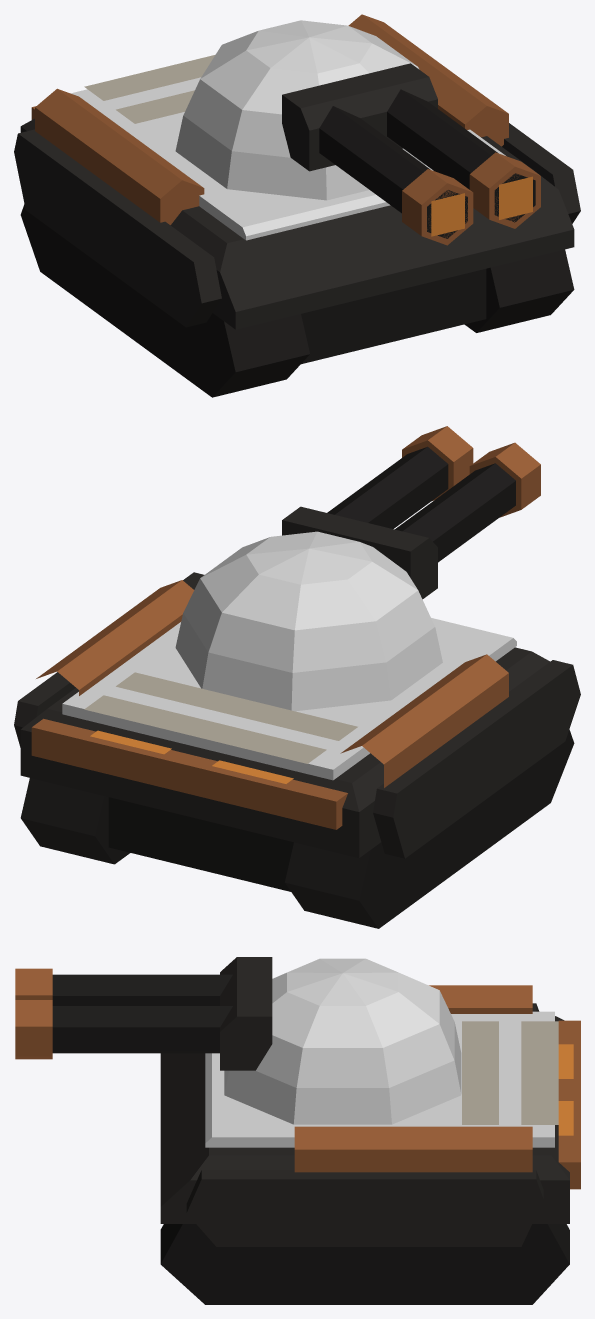
File: lnd_t2_tank.e7b8770c.glb
The picture shows the model from 3 angles, top to bottom: view 1: azimuth 30°, elevation 25°; view 2: azimuth 150°, elevation 25°; view 3: azimuth 270°, elevation 25°; orthographic projection. The views are drawn at different scales.
Parts seen in each view (by area): view 1: lod0; view 2: lod0; view 3: lod0.
Boxes of the visible parts, bbox=[...] form: lod0: bbox=[14, 14, 580, 397]; lod0: bbox=[14, 426, 580, 928]; lod0: bbox=[15, 957, 580, 1304].
Size of what is drawn, in the model's own units: 1.46 by 0.9759 by 1.98.
